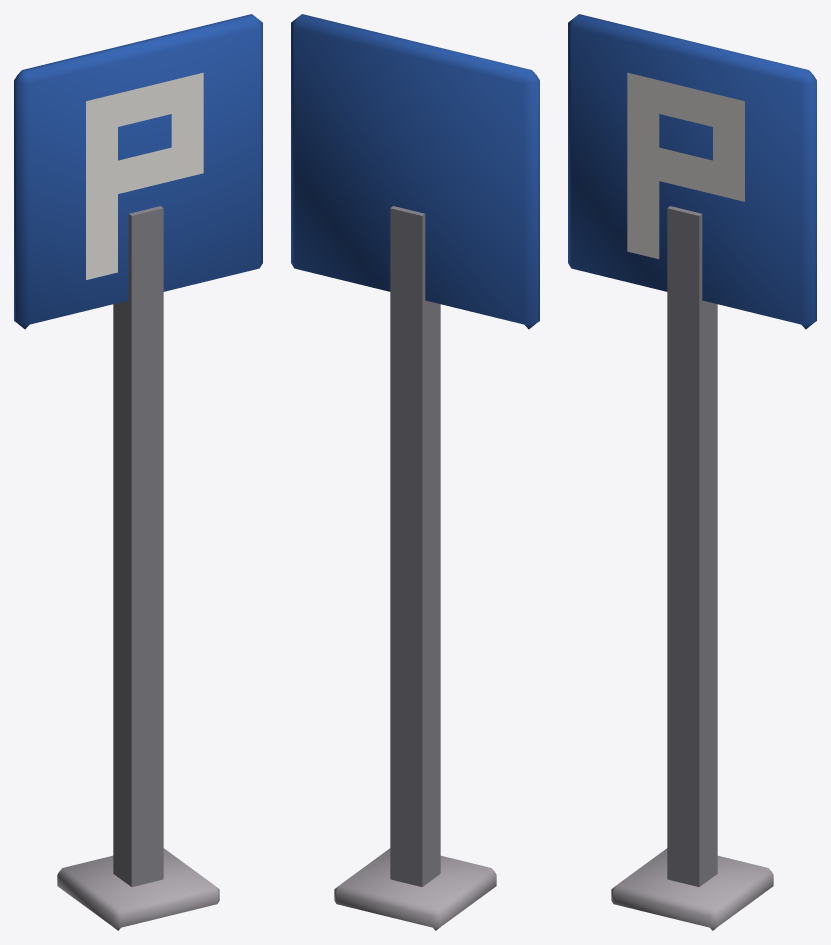
Rendered from parking_sign.glb.
3 renders of one model, left to right at view 1: azimuth 30°, elevation 25°; view 2: azimuth 150°, elevation 25°; view 3: azimuth 330°, elevation 25°, orthographic.
Visible parts, largest first — view 1: parking_sign; view 2: parking_sign; view 3: parking_sign.
Part boxes in pixels (bbox=[...]): parking_sign: bbox=[14, 14, 262, 930]; parking_sign: bbox=[291, 14, 539, 930]; parking_sign: bbox=[568, 14, 816, 930].
Size of the model in its own units: 0.46 by 1.53 by 0.2.
1 material, 1 textured.
